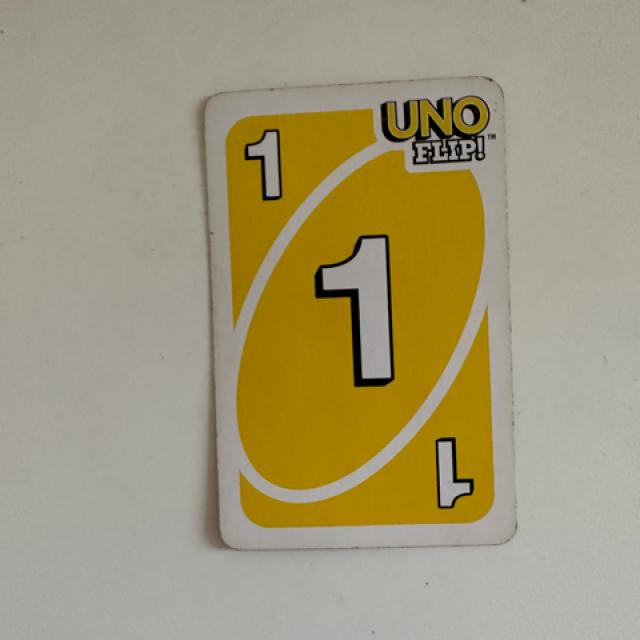lyellow-1: (221, 110, 316, 222)
